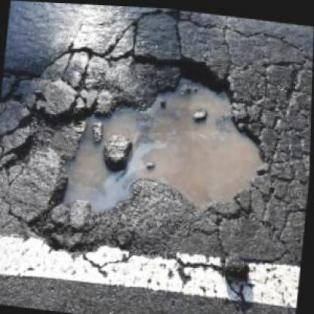Hueco: (25, 34, 281, 272)
